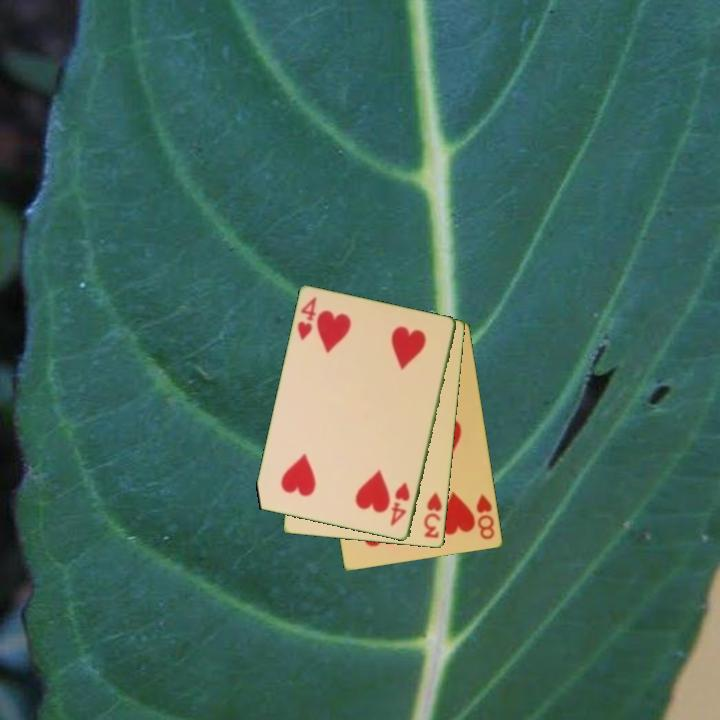3h: (421, 489, 445, 541)
4h: (387, 479, 413, 529), (294, 294, 320, 343)
8h: (473, 491, 498, 543)
